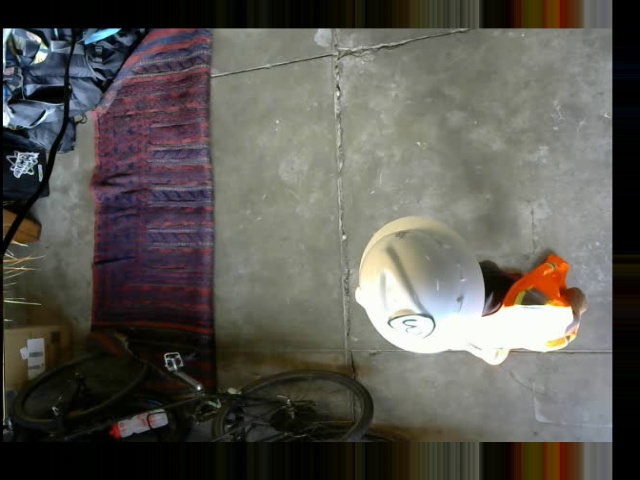three: (388, 313, 434, 340)
